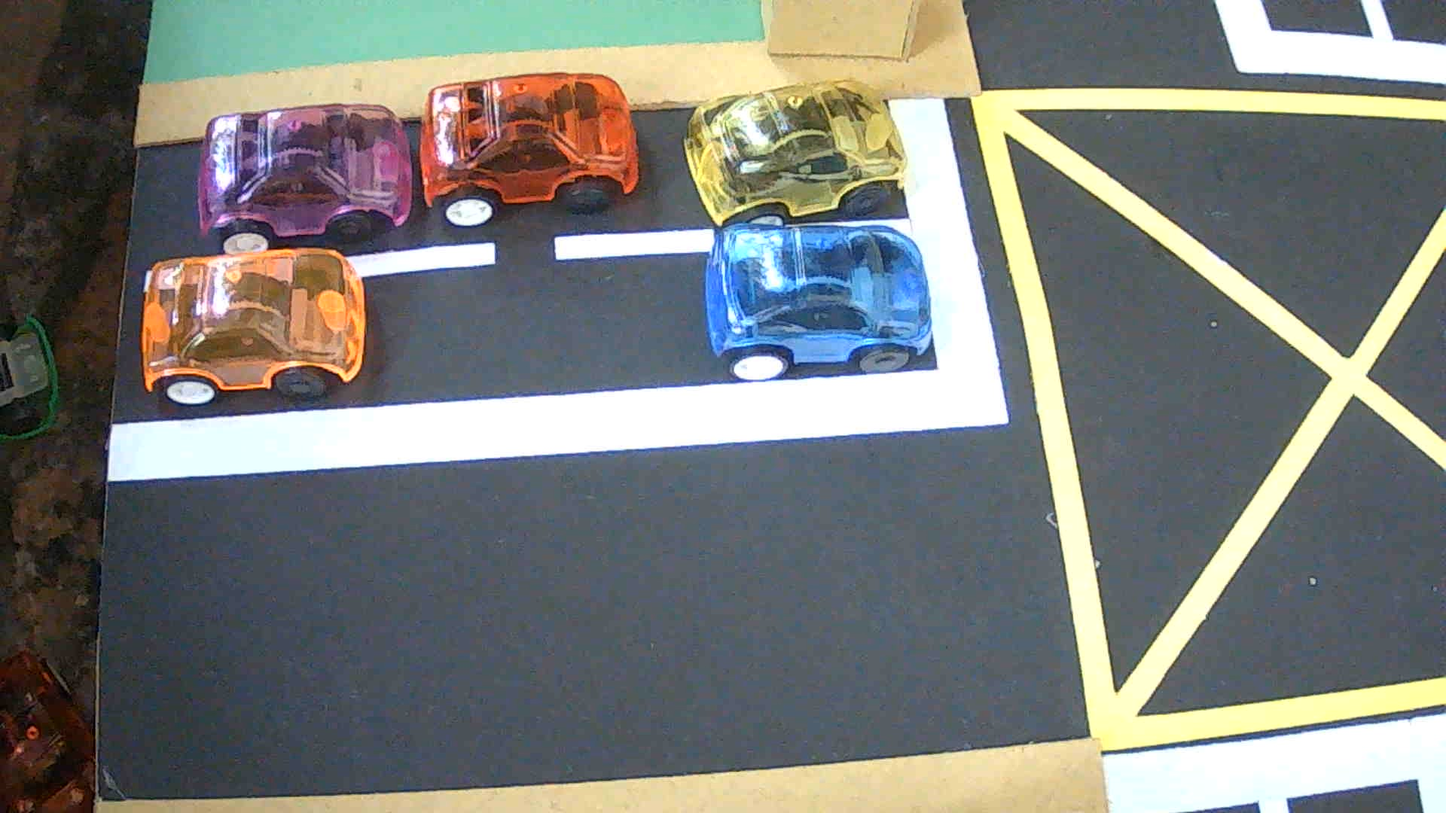Mobil biru: (704, 224, 932, 381)
Mobil kuning: (683, 80, 907, 226)
Mobil merah: (419, 73, 639, 227)
Mobil orange: (140, 249, 368, 405)
Mobil ungu: (197, 105, 412, 253)
